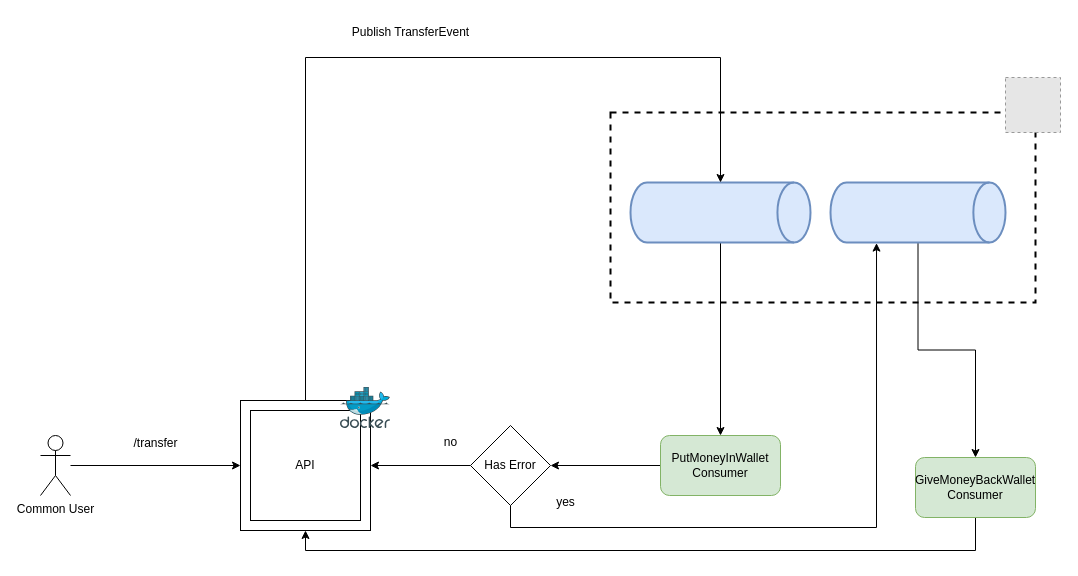
Image size: 1078x576. Some labels were removed from this diagram. Grey dashed boxes stand in for pictures. Each missing label, with the box of its shape:
transfer-money: (629, 181, 811, 243)
transfer-money-dlq: (829, 181, 1006, 243)
